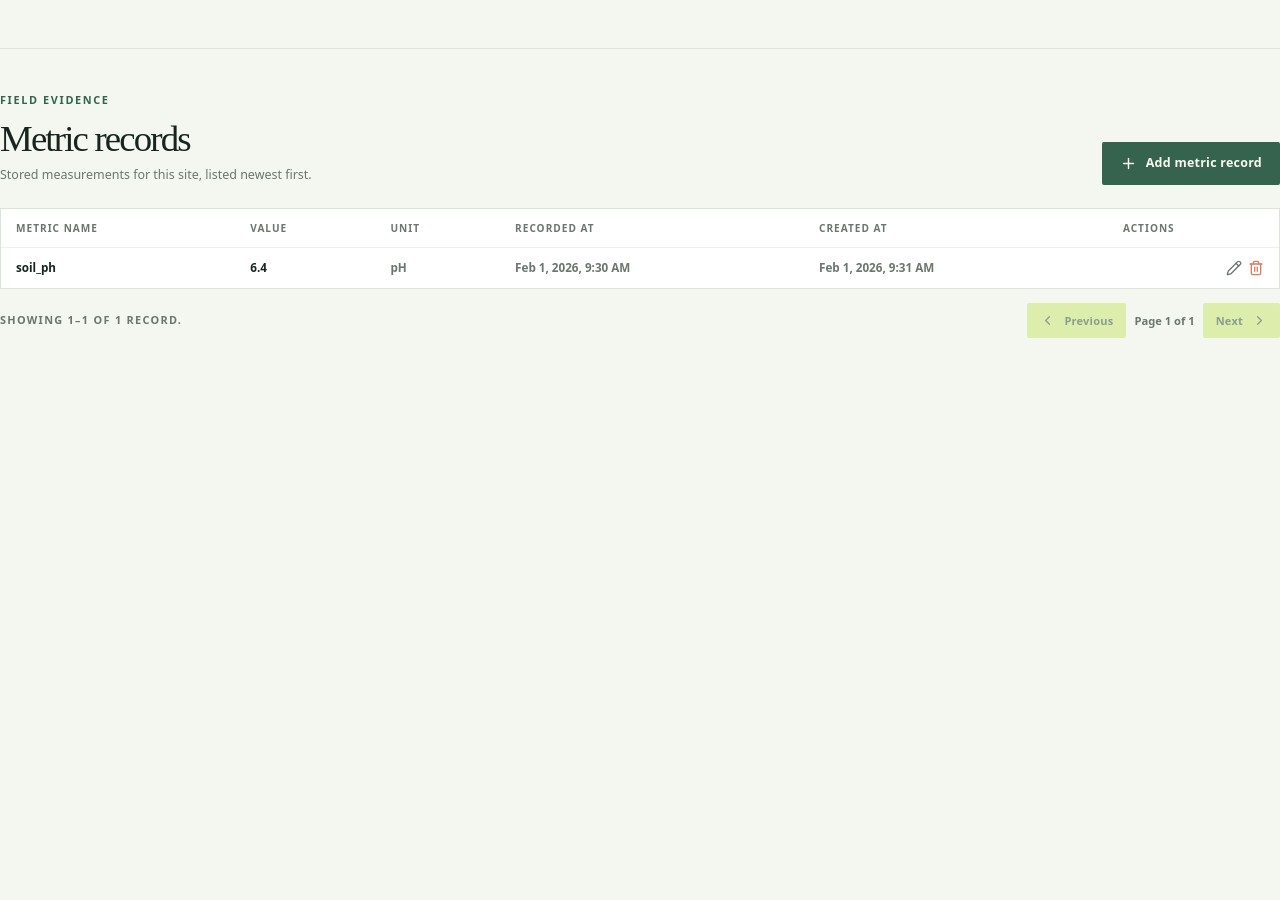
Test: SiteMetricRecords actions › opens the metric form pre-filled from the row edit action
Check: the text "soil_ph" is shown, box x1=16 y1=260 x2=56 y2=275
Click the button named "Edit soil_ph record" at {"x": 1234, "y": 268}, box x1=1226 y1=260 x2=1242 y2=276
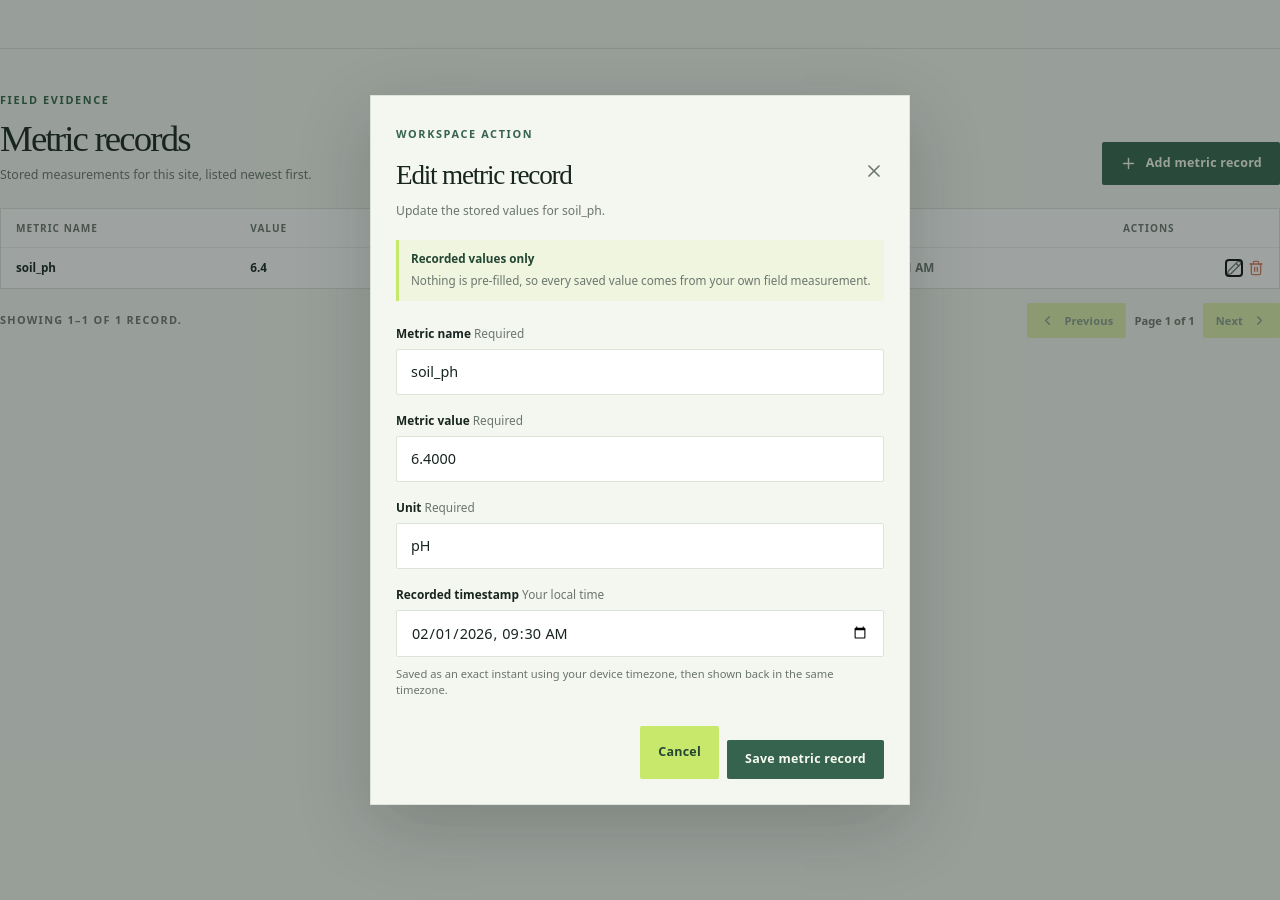
Check: the heading "Edit metric record" is shown, box x1=396 y1=160 x2=572 y2=190
Check: the field labelled "Metric name Required" holds "soil_ph", box x1=396 y1=349 x2=884 y2=395
Check: the field labelled "Unit Required" holds "pH", box x1=396 y1=523 x2=884 y2=569
